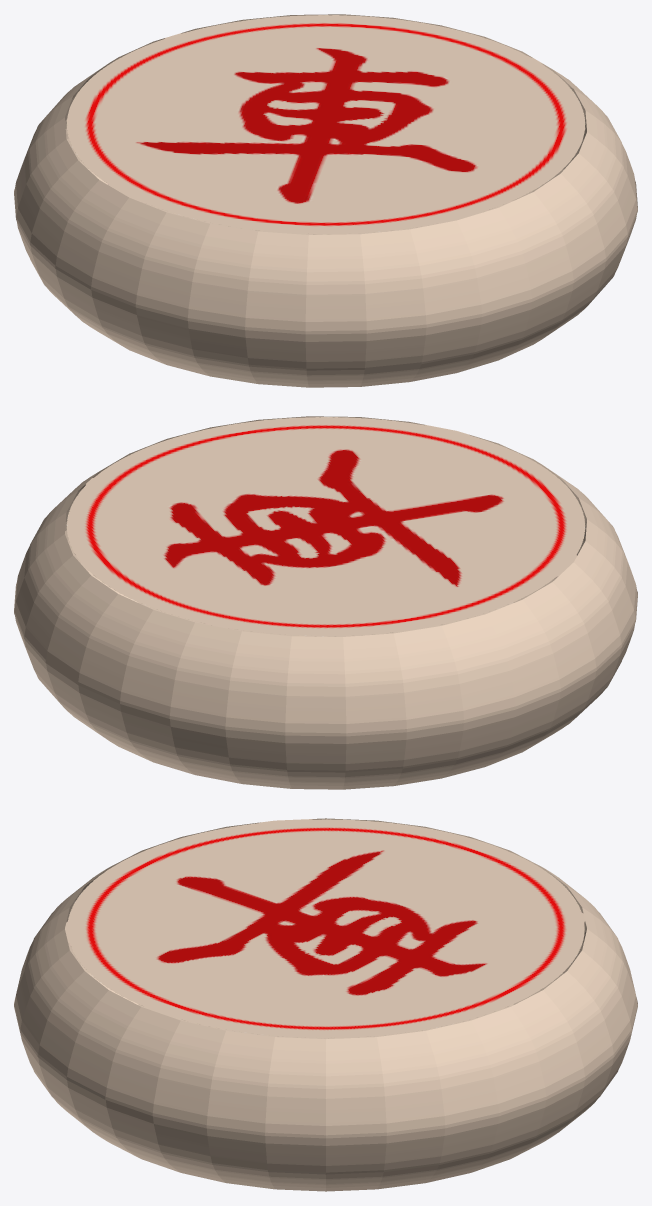
File: red_chariot.fbx
3 views of the same model, one above another, from view 1: azimuth 30°, elevation 25°; view 2: azimuth 150°, elevation 25°; view 3: azimuth 270°, elevation 25° (orthographic).
Parts seen in each view (by area): view 1: Red Chariot; view 2: Red Chariot; view 3: Red Chariot.
Boxes of the visible parts, box(x1,y1,x2,y2) form: Red Chariot: box(14, 14, 637, 387); Red Chariot: box(14, 416, 637, 789); Red Chariot: box(14, 818, 637, 1191).
Bounding box in the file's own units: 245 × 66.11 × 245.
Materials: 2 (1 with a texture image).
